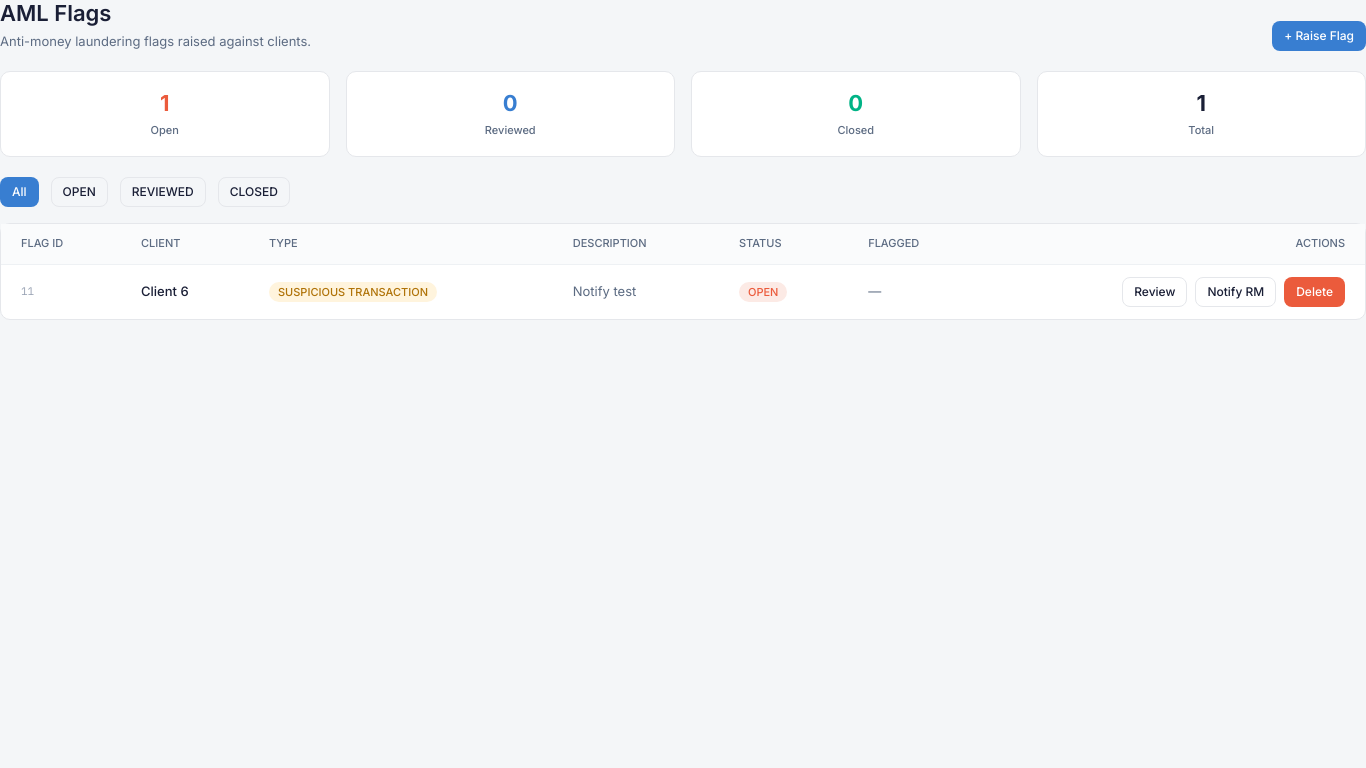
Test case: AmlFlags extra tests › opens Notify RM modal when Notify RM button is clicked on OPEN flag
Click the button "Notify RM": (1236, 292) [1195,277,1276,307]
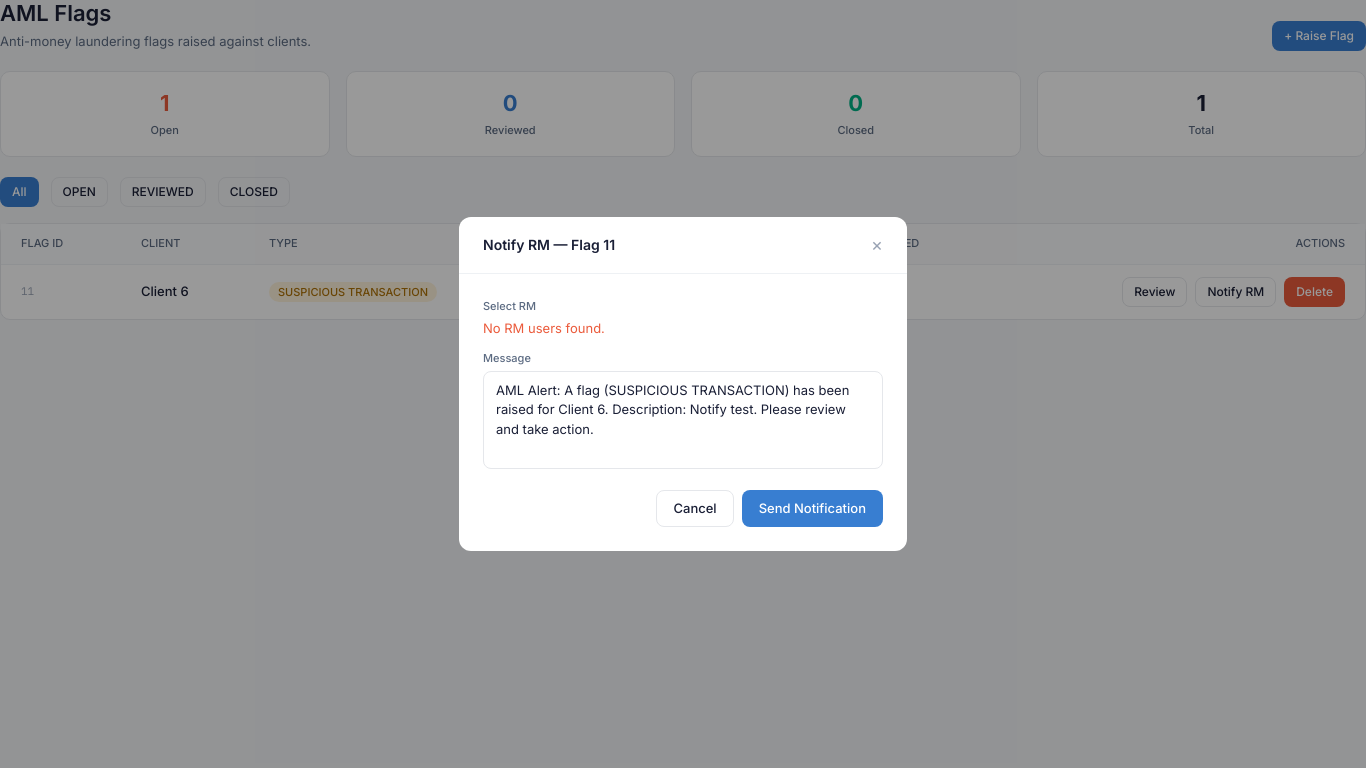
Check: the heading "Notify RM — Flag 11" is shown, box [483,234,615,256]
